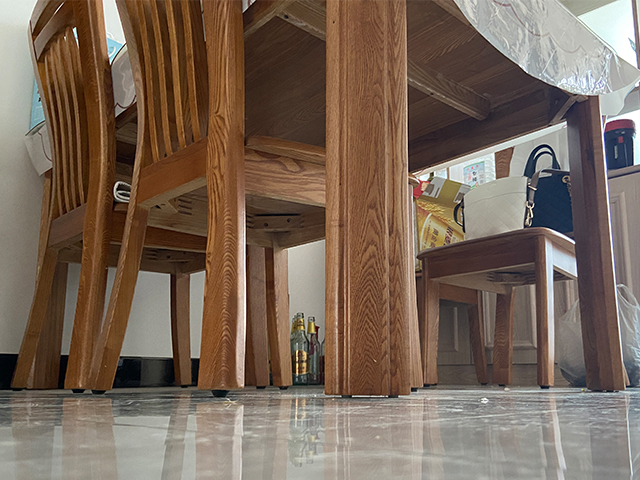stool: (9, 1, 273, 396), (85, 1, 325, 397), (414, 225, 579, 392)
table: (29, 1, 622, 400)
